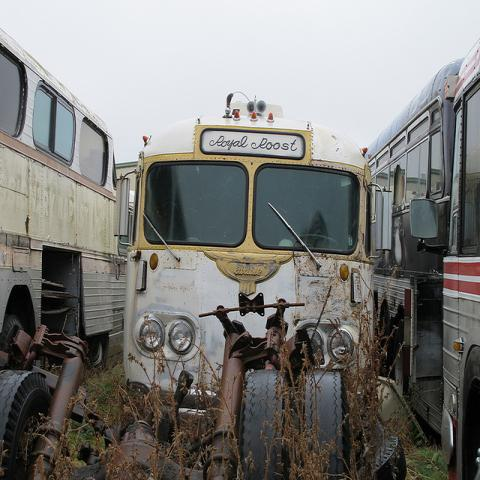bus: (120, 122, 382, 429), (366, 40, 479, 475), (0, 21, 135, 364)
